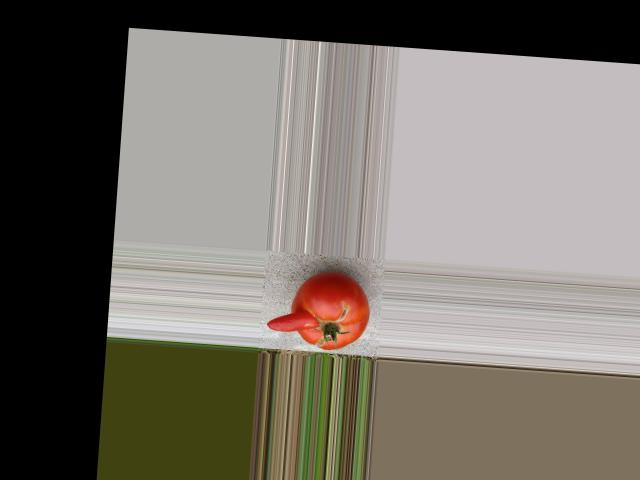tomato: (288, 271, 373, 352)
